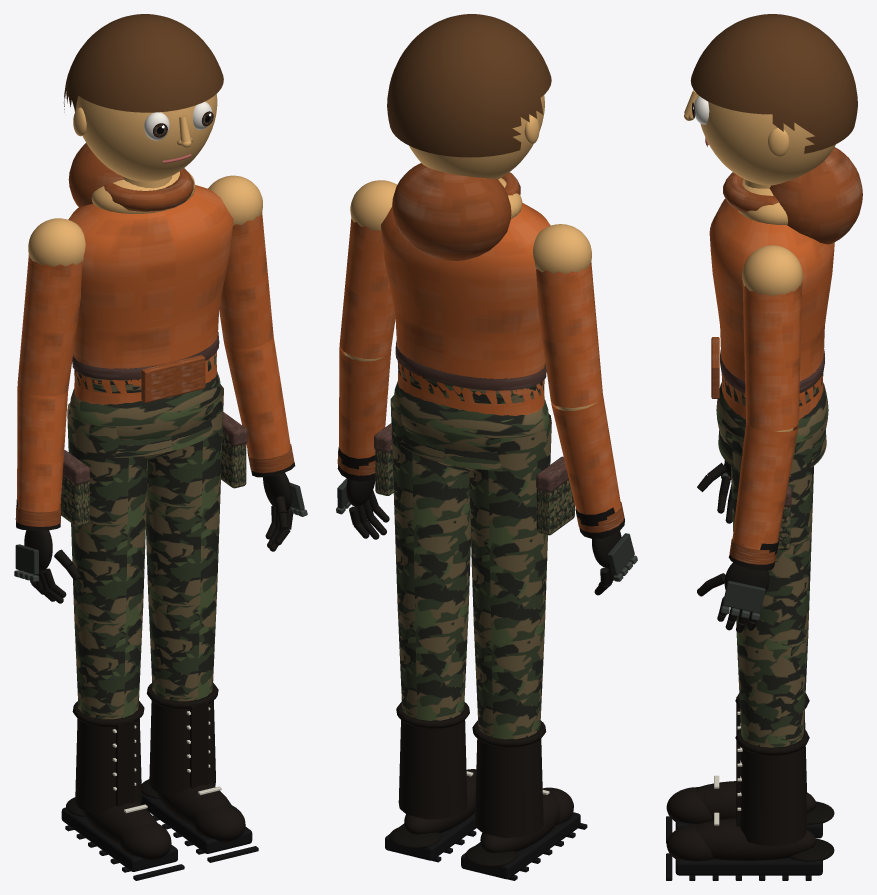
The model's file is 02-sweat-a-capuche.glb.
3 renders of one model, left to right at view 1: azimuth 30°, elevation 25°; view 2: azimuth 150°, elevation 25°; view 3: azimuth 270°, elevation 25°, orthographic. The views are drawn at different scales.
Bounding box in the file's own units: 0.6344 × 1.77 × 0.381.
23 materials, 5 textured.
